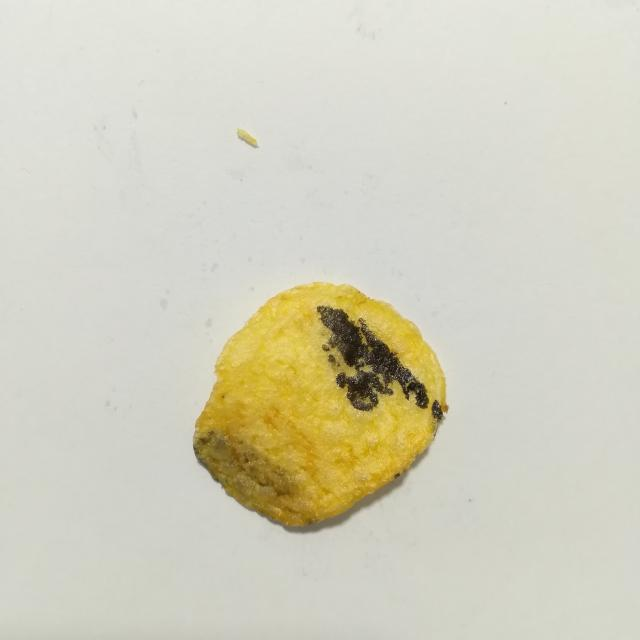chip: (194, 283, 448, 526)
damaged: (317, 306, 429, 411), (431, 400, 443, 421), (328, 354, 339, 366), (394, 473, 400, 478)
semi-damaged: (193, 430, 314, 526)
